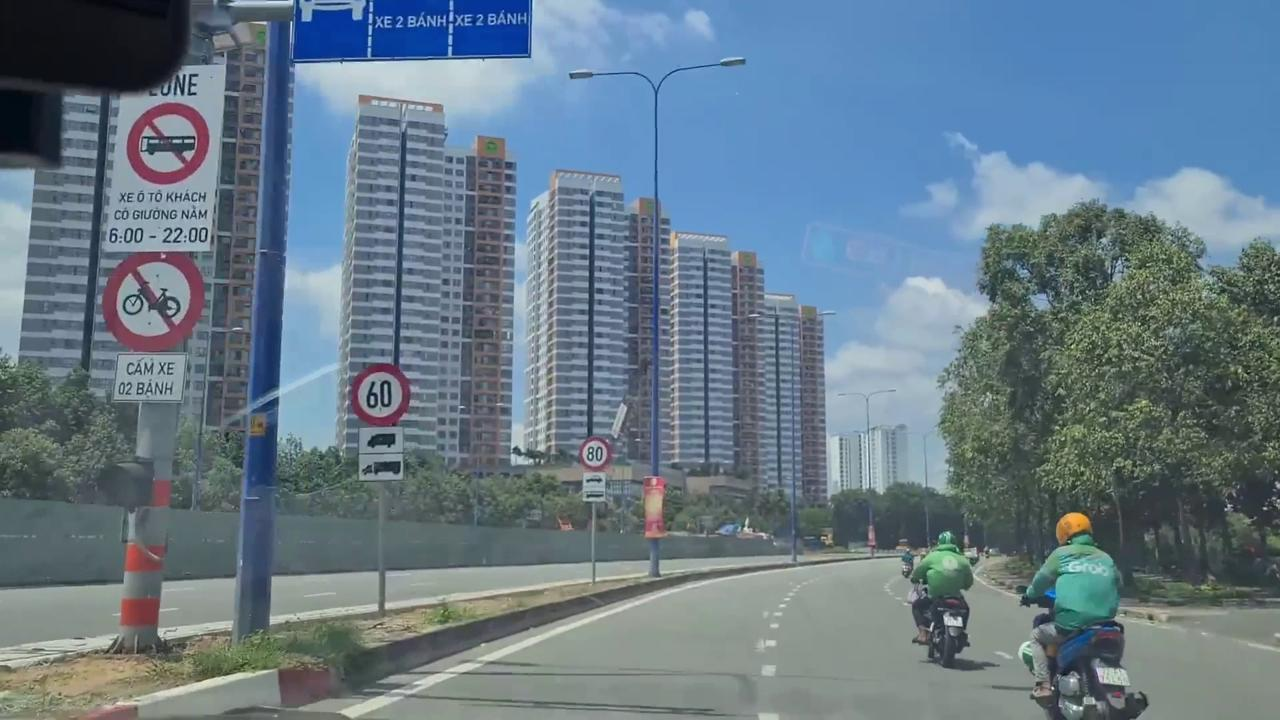Biển phụ: (113, 350, 187, 404), (355, 426, 405, 481), (581, 470, 607, 503)
Cấm cac phương tiện hoạt động trong khung giờ cố định: (107, 61, 228, 253)
Cấm xe máy: (100, 247, 208, 353)
GIơi hạn tốc độ 60Km/h: (348, 363, 412, 428)
Giới hạn tốc độ 80Km/h: (578, 434, 610, 472)
